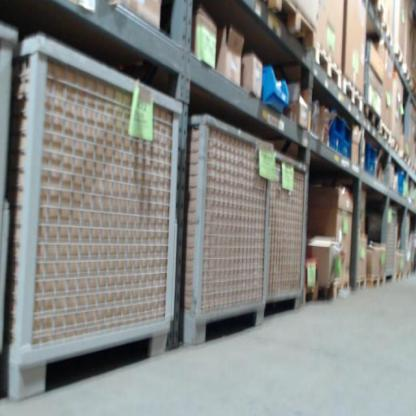pallets: (309, 45, 415, 184), (365, 1, 415, 105), (308, 266, 410, 310)
